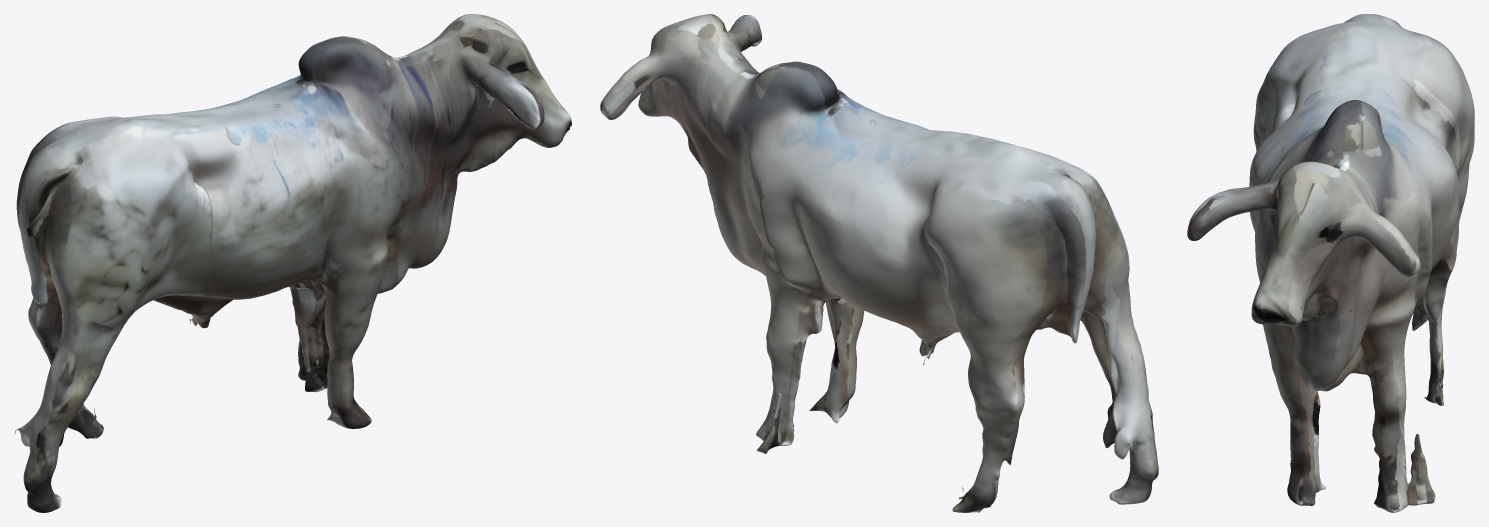
Rendered from joven.glb.
3 views of the same model, side by side, from view 1: azimuth 30°, elevation 25°; view 2: azimuth 150°, elevation 25°; view 3: azimuth 270°, elevation 25° (orthographic). The views are drawn at different scales.
Visible parts, largest first — view 1: mesh; view 2: mesh; view 3: mesh.
Boxes of the visible parts, left/top/right/bottom form: mesh: left=14, top=14, right=571, bottom=512; mesh: left=600, top=14, right=1158, bottom=512; mesh: left=1187, top=14, right=1474, bottom=512.
Bounding box in the file's own units: 1.69 × 1.16 × 0.7381.
Materials: 1 (1 with a texture image).
